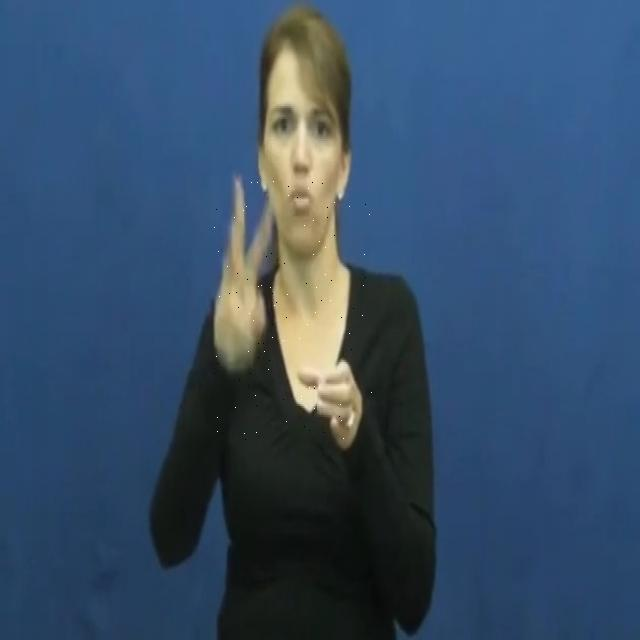straw: (214, 176, 372, 440)
